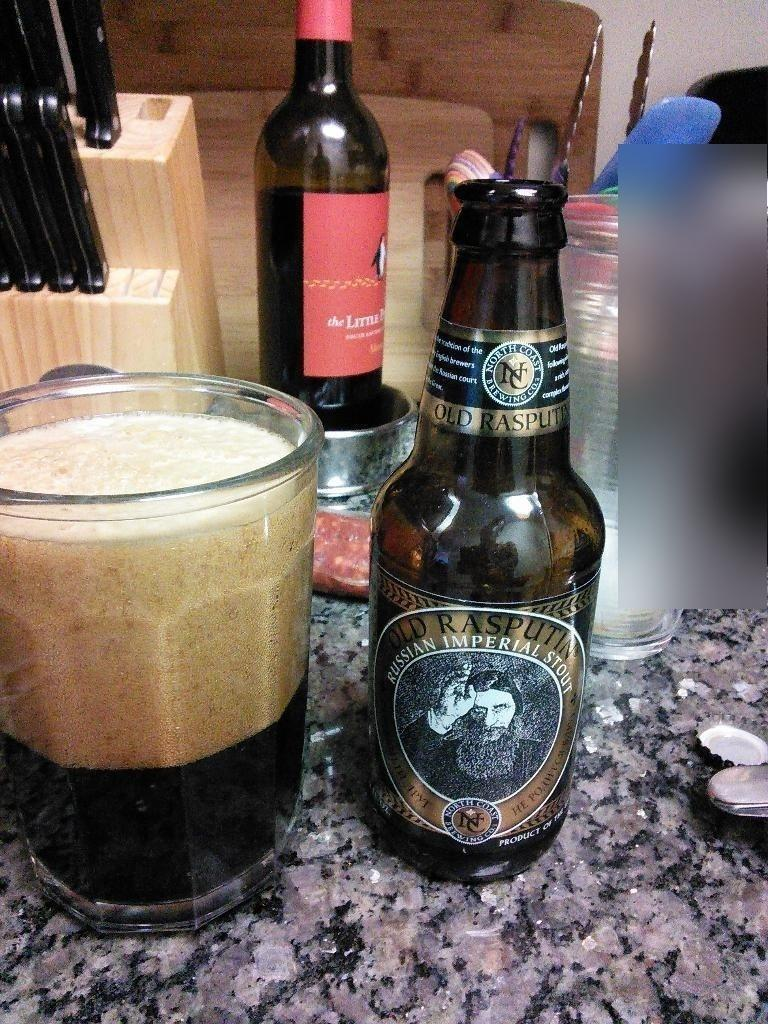bottle-glass: (361, 181, 605, 878), (253, 1, 390, 411)
glass-normal: (1, 368, 329, 924)
